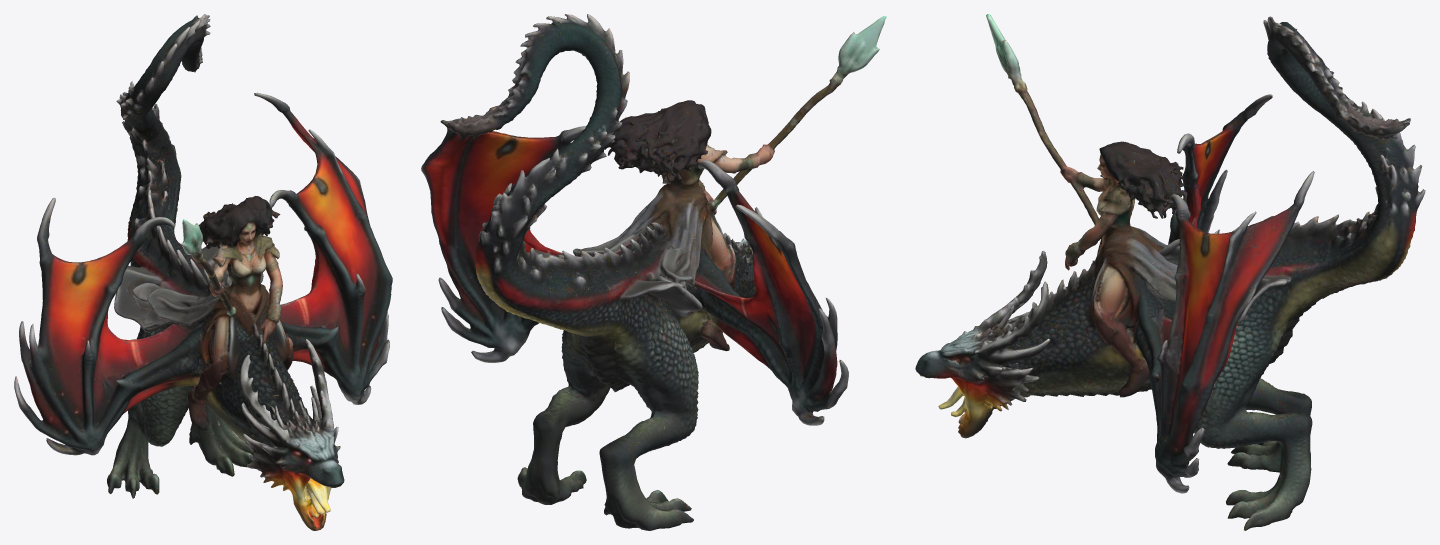
File: Touzo and Fabulous_final.glb
The picture shows the model from 3 angles, left to right: view 1: azimuth 30°, elevation 25°; view 2: azimuth 150°, elevation 25°; view 3: azimuth 270°, elevation 25°; orthographic projection. The views are drawn at different scales.
Parts seen in each view (by area): view 1: Mesh_0.001; view 2: Mesh_0.001; view 3: Mesh_0.001.
Part boxes in pixels (<box>): Mesh_0.001: <box>14,14,392,530</box>; Mesh_0.001: <box>421,14,886,530</box>; Mesh_0.001: <box>915,14,1425,530</box>.
Size of the model in its own units: 2.63 by 3 by 2.91.
Materials: 1 (1 with a texture image).
